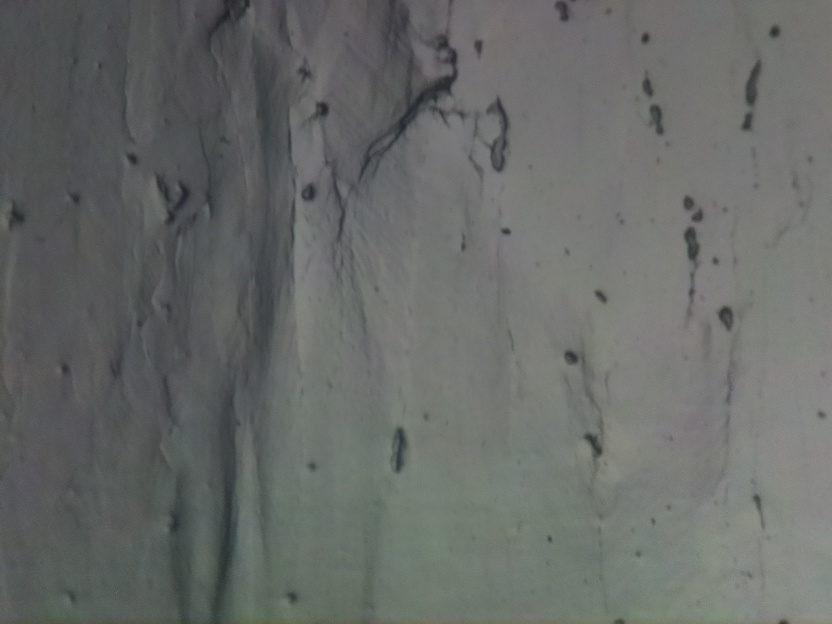crack: (362, 36, 459, 164)
